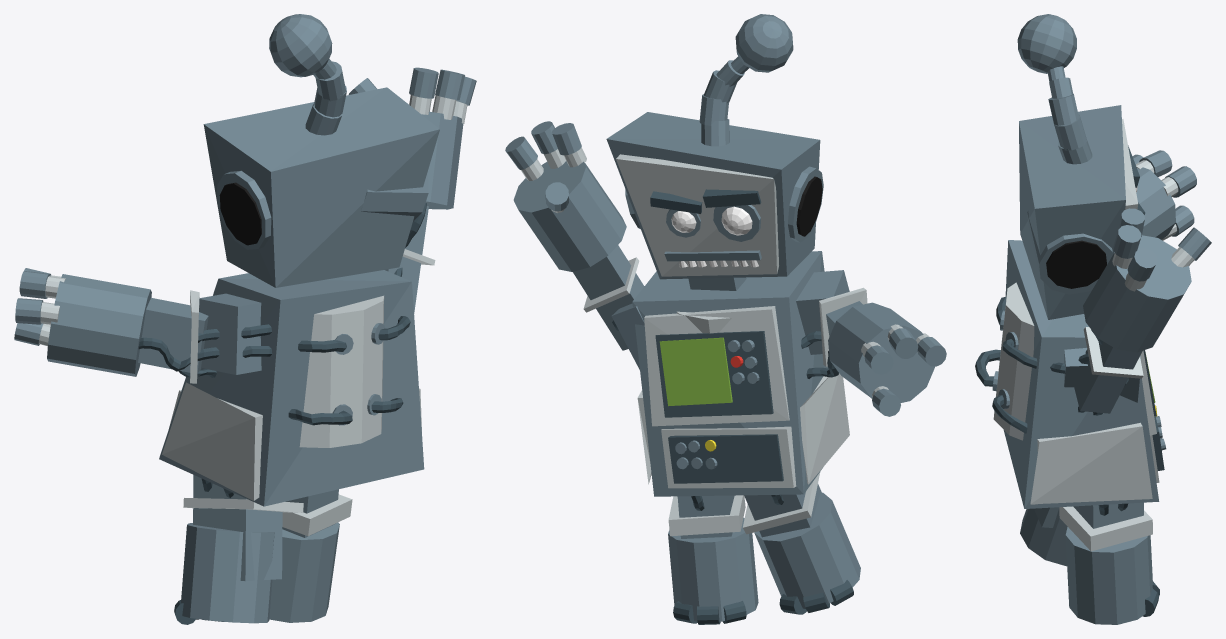
File: Robot5.obj
3 views of the same model, side by side, from view 1: azimuth 30°, elevation 25°; view 2: azimuth 150°, elevation 25°; view 3: azimuth 270°, elevation 25° (orthographic). The views are drawn at different scales.
Parts seen in each view (by area): view 1: mesh2145435250; view 2: mesh2145435250; view 3: mesh2145435250.
Part boxes in pixels (x1=…): mesh2145435250: x1=14, y1=14, x2=476, y2=624; mesh2145435250: x1=505, y1=14, x2=946, y2=624; mesh2145435250: x1=975, y1=14, x2=1211, y2=624.
Bounding box in the file's own units: 1.62 × 2.06 × 0.7591.
